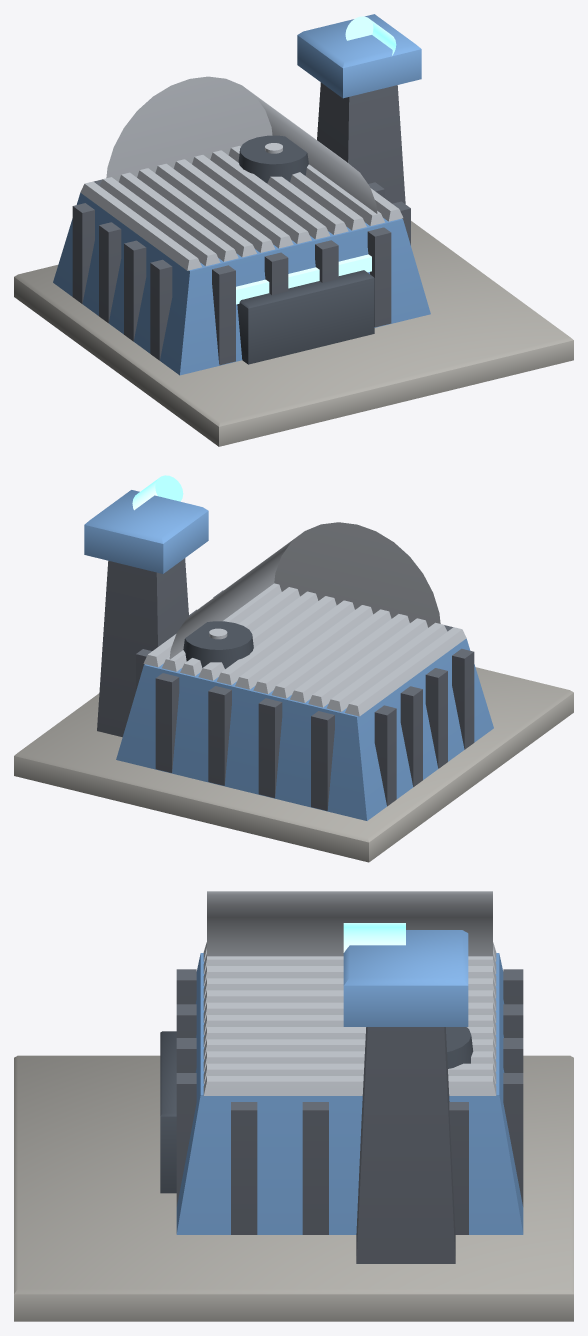
The model's file is tent.glb.
3 renders of one model, top to bottom at view 1: azimuth 30°, elevation 25°; view 2: azimuth 150°, elevation 25°; view 3: azimuth 270°, elevation 25°, orthographic. The views are drawn at different scales.
Parts seen in each view (by area): view 1: Hull; view 2: Hull; view 3: Hull.
Part boxes in pixels (bbox=[...]): Hull: bbox=[14, 14, 573, 446]; Hull: bbox=[14, 475, 573, 862]; Hull: bbox=[14, 891, 573, 1321].
Bounding box in the file's own units: 3.24 × 2.23 × 3.24.
